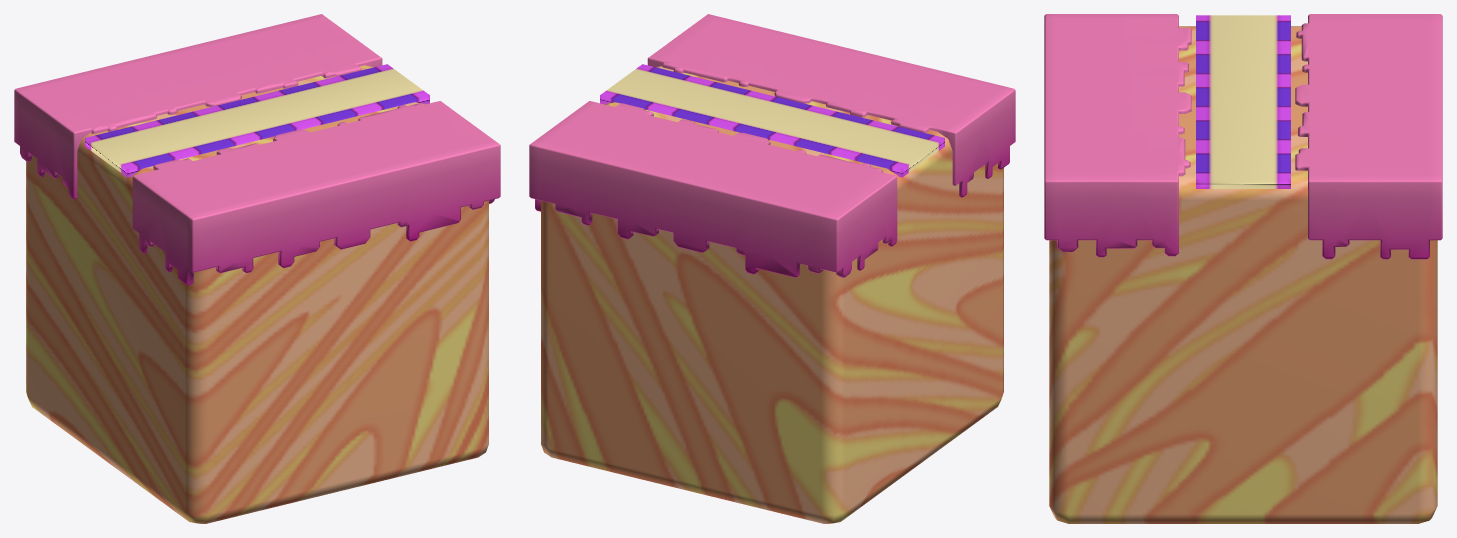
The model's file is ScaffoldL_N004.fbx.
3 views of the same model, side by side, from view 1: azimuth 30°, elevation 25°; view 2: azimuth 150°, elevation 25°; view 3: azimuth 270°, elevation 25° (orthographic). The views are drawn at different scales.
Visible parts, largest first — view 1: asibaL_M4; view 2: asibaL_M4; view 3: asibaL_M4.
Boxes of the visible parts, box(x1,y1,x2,y2) form: asibaL_M4: box(14, 14, 500, 523); asibaL_M4: box(529, 14, 1015, 523); asibaL_M4: box(1044, 14, 1442, 523).
Bounding box in the file's own units: 1.02 × 1 × 1.03.
Materials: 1 (1 with a texture image).
